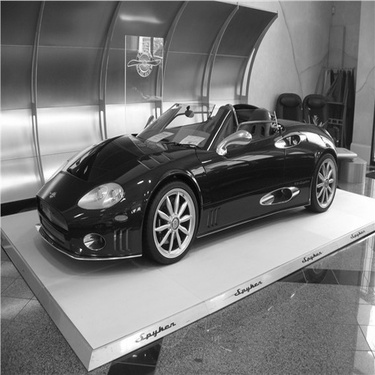car: (24, 95, 345, 267)
